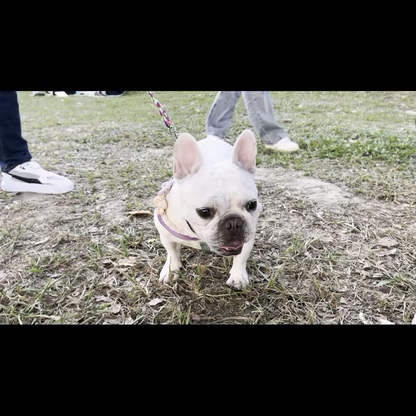bulldog: (150, 125, 265, 291)
